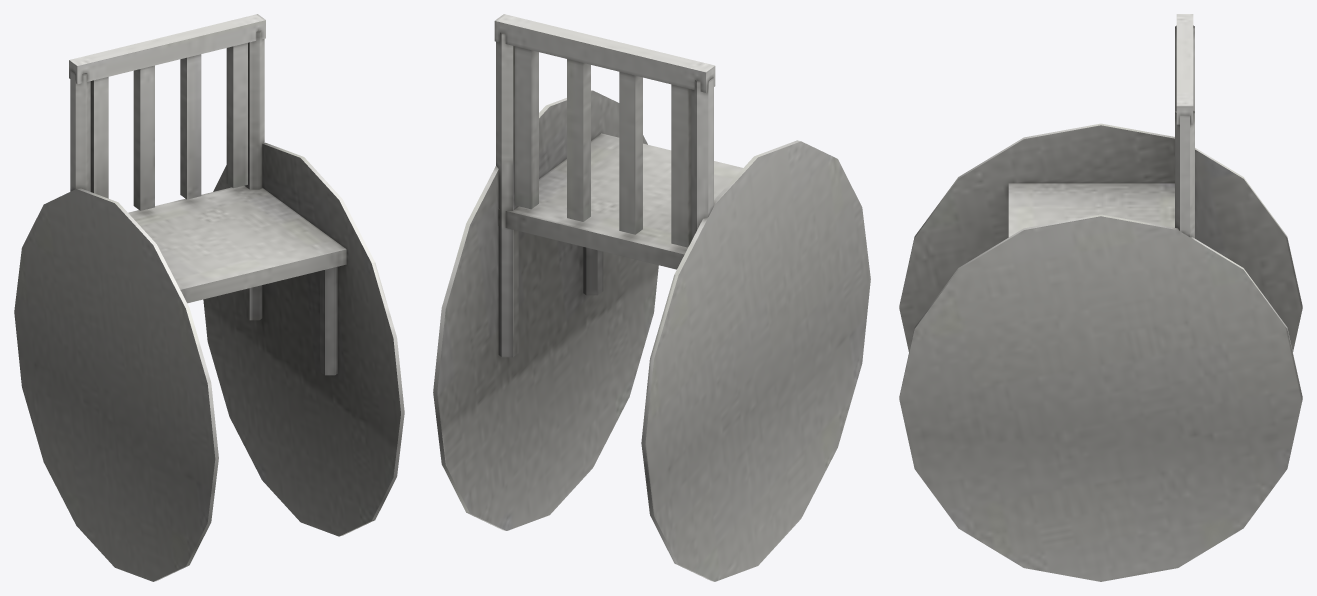
File: mecedora_obst.glb
3 views of the same model, side by side, from view 1: azimuth 30°, elevation 25°; view 2: azimuth 150°, elevation 25°; view 3: azimuth 270°, elevation 25° (orthographic). The views are drawn at different scales.
Parts seen in each view (by area): view 1: mecedora_obst; view 2: mecedora_obst; view 3: mecedora_obst.
Part boxes in pixels (bbox=[...]): mecedora_obst: bbox=[14, 14, 404, 581]; mecedora_obst: bbox=[433, 14, 870, 581]; mecedora_obst: bbox=[899, 14, 1302, 581].
Size of the model in its own units: 0.6525 by 1.56 by 1.2.
1 material, 1 textured.
